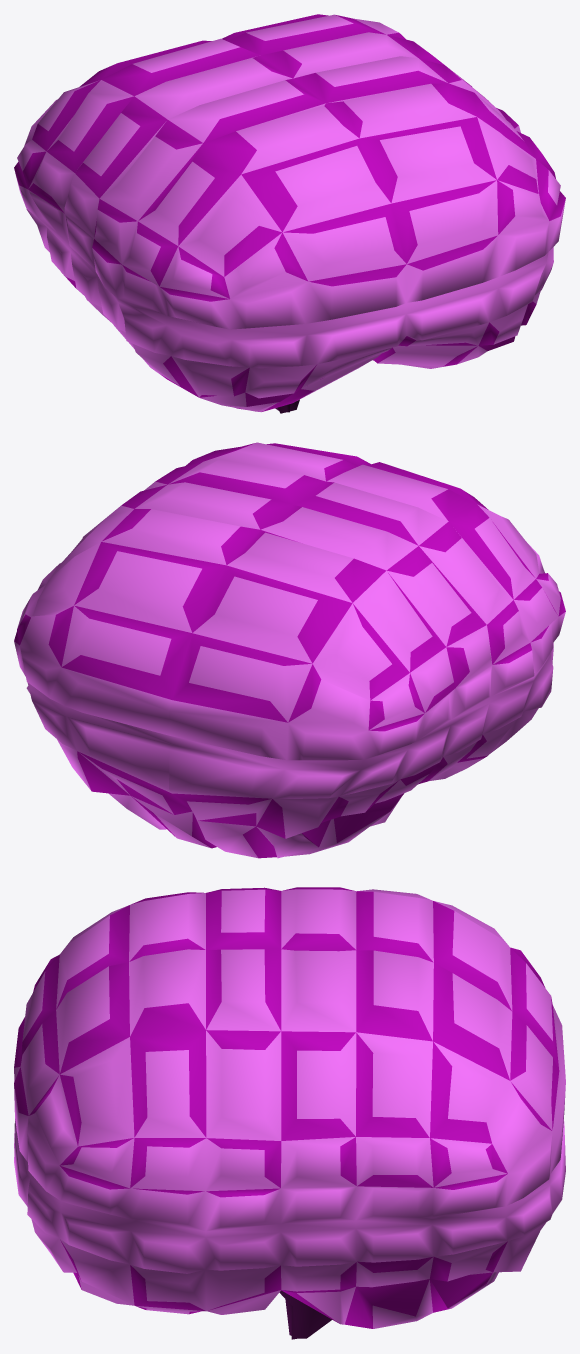
The model's file is char_019_item_brain_01_FBX.fbx.
3 renders of one model, top to bottom at view 1: azimuth 30°, elevation 25°; view 2: azimuth 150°, elevation 25°; view 3: azimuth 270°, elevation 25°, orthographic. The views are drawn at different scales.
Visible parts, largest first — view 1: item_brain_01; view 2: item_brain_01; view 3: item_brain_01.
Boxes of the visible parts, x1,y1,x2,y2 form: item_brain_01: (14,14,565,413); item_brain_01: (14,442,565,858); item_brain_01: (14,887,565,1339).
Size of the model in its own units: 1.9 by 1.45 by 1.84.
Materials: 1 (1 with a texture image).
